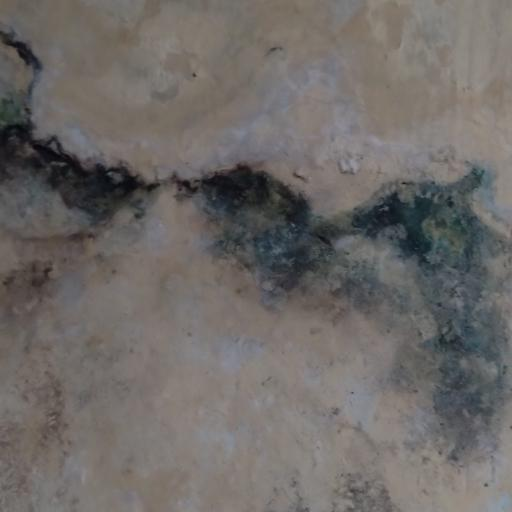algae: (5, 82, 512, 439)
